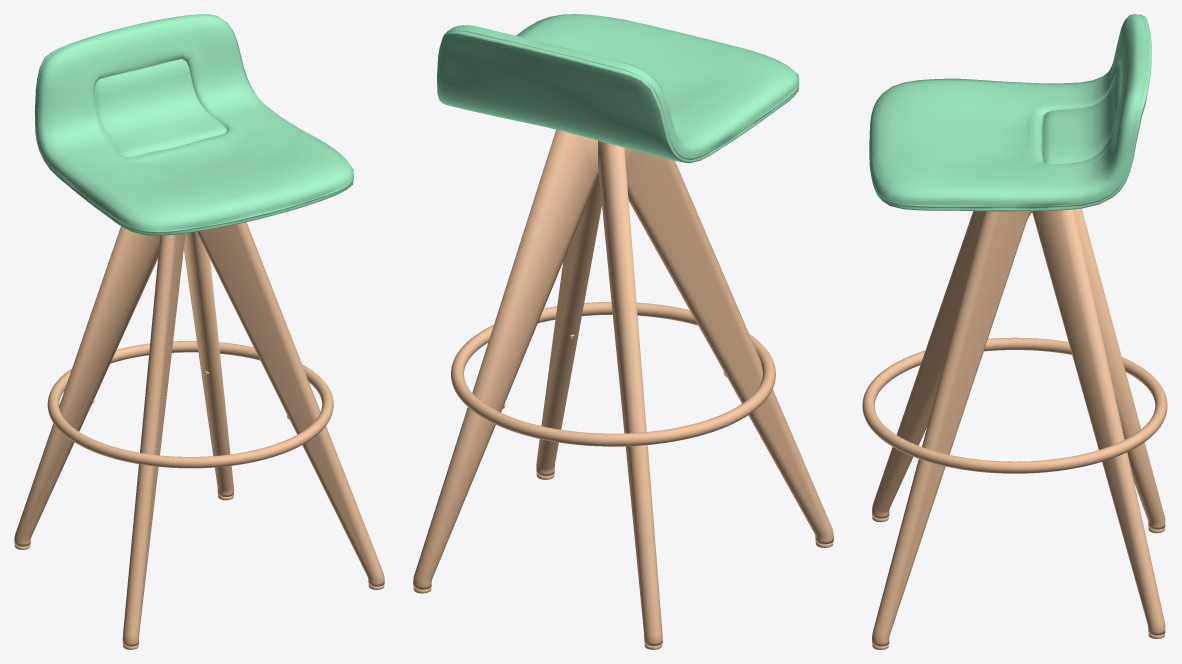
Rendered from chair.gltf.
3 views of the same model, side by side, from view 1: azimuth 30°, elevation 25°; view 2: azimuth 150°, elevation 25°; view 3: azimuth 270°, elevation 25° (orthographic). The views are drawn at different scales.
Parts seen in each view (by area): view 1: bar_stool_3; view 2: bar_stool_3; view 3: bar_stool_3.
Part boxes in pixels (left/top/right/bottom): bar_stool_3: left=14, top=14, right=384, bottom=649; bar_stool_3: left=413, top=14, right=833, bottom=649; bar_stool_3: left=862, top=14, right=1167, bottom=649.
Bounding box in the file's own units: 0.4782 × 0.8796 × 0.4564.
